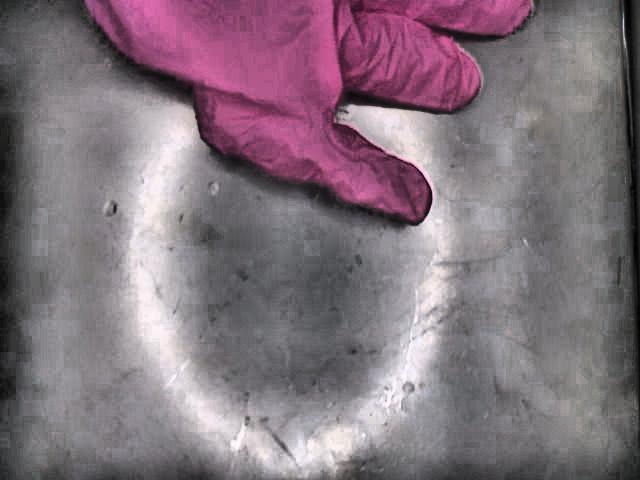Almennt: (82, 0, 537, 225)
